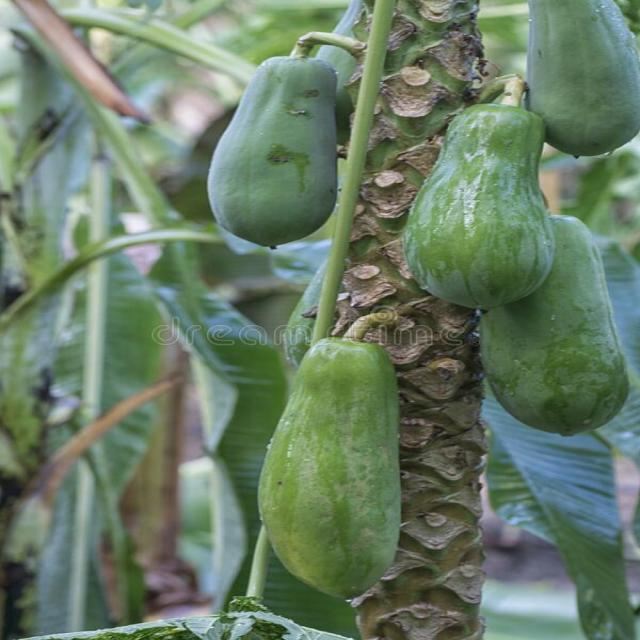Pepaya unrippen: (253, 337, 419, 600), (390, 103, 548, 310), (488, 210, 632, 436), (206, 59, 351, 248), (522, 3, 640, 160)
